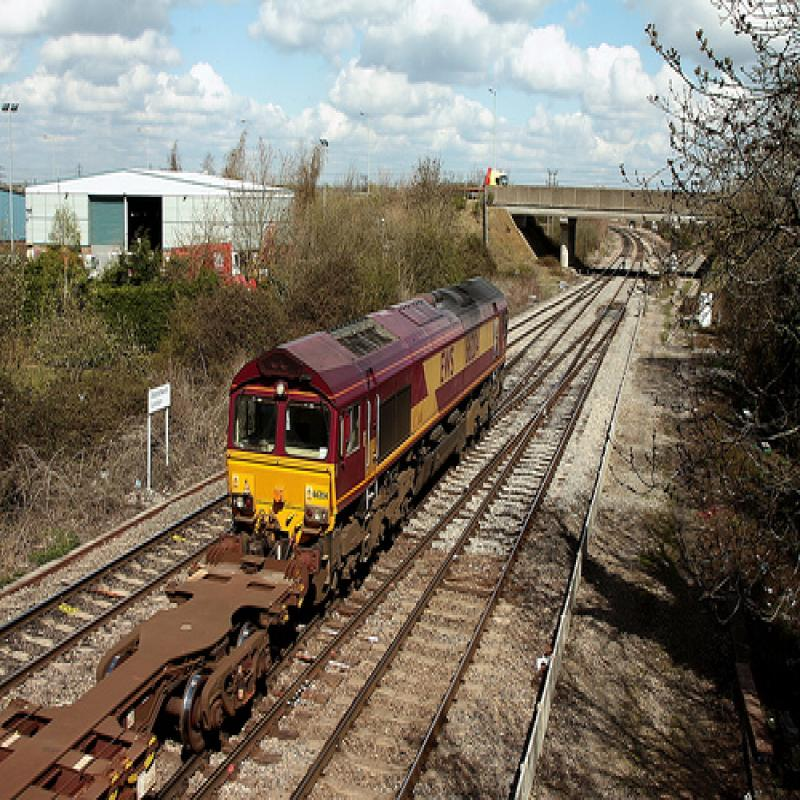train: (1, 280, 510, 799)
